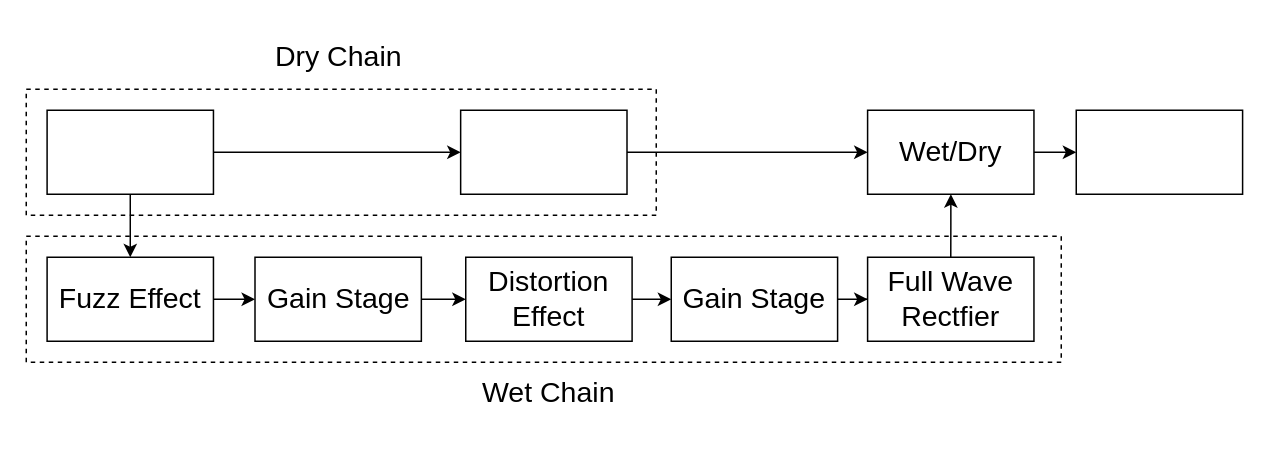
Some shapes in this 1269 by 450 pixel diagram are drawn without their labels. Each missing label, with the centre of its shape:
AudioBuffer: the point at 129,151
Lowpass Filter: the point at 543,151
Output: the point at 1159,151
